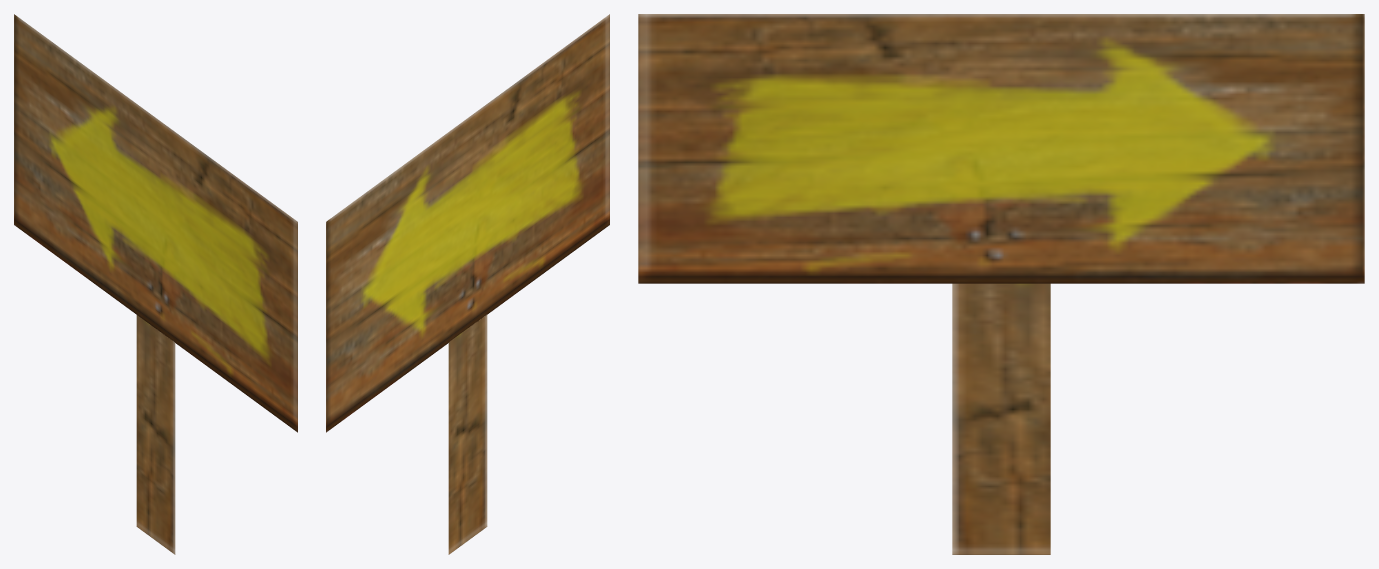
The model's file is rightway01.glb.
3 renders of one model, left to right at view 1: azimuth 30°, elevation 25°; view 2: azimuth 150°, elevation 25°; view 3: azimuth 270°, elevation 25°, orthographic. The views are drawn at different scales.
Visible parts, largest first — view 1: rightway01; view 2: rightway01; view 3: rightway01.
Boxes of the visible parts, x1=… form: rightway01: x1=14, y1=14, x2=297, y2=554; rightway01: x1=326, y1=14, x2=609, y2=554; rightway01: x1=638, y1=14, x2=1364, y2=554.
Bounding box in the file's own units: 0 × 469 × 570.
1 material, 1 textured.
